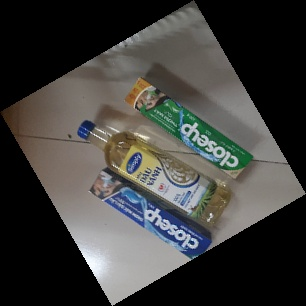CloseUp Tuyet: (88, 167, 211, 264)
CloseUp Xanh: (120, 75, 254, 182)
Simply: (77, 119, 231, 228)
